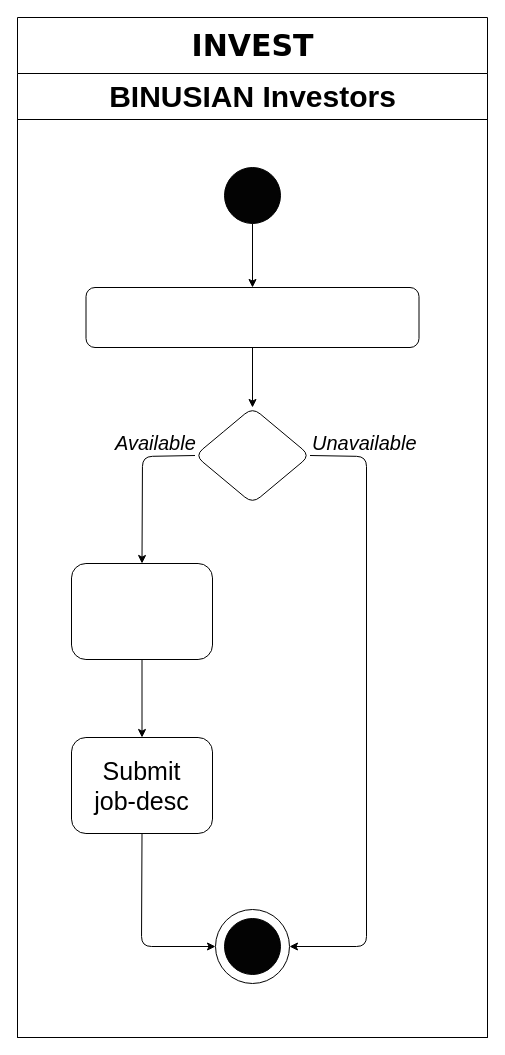
The diagram is 505 pixels wide and 1055 high, and some of its shapes have lost their labels. Here are the shapes that lost their labels. From the top down, the box of each, then its label:
(85, 286, 419, 348): Check available job-desc
(70, 562, 212, 660): Accept job-desc
